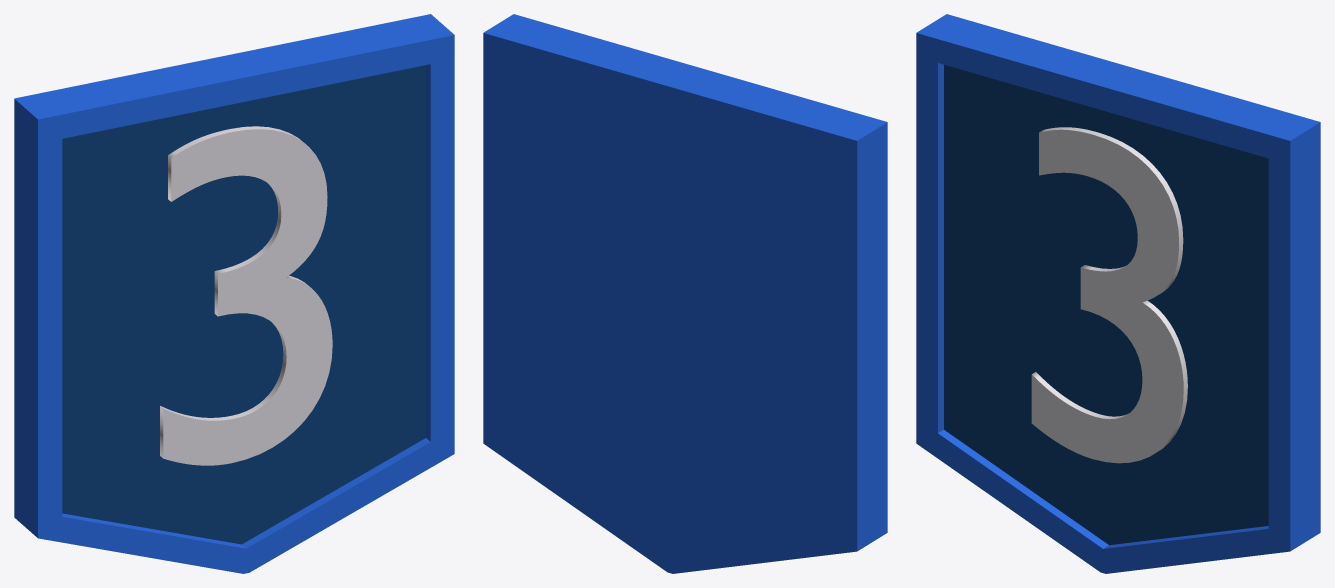
The model's file is css.glb.
3 views of the same model, side by side, from view 1: azimuth 30°, elevation 25°; view 2: azimuth 150°, elevation 25°; view 3: azimuth 330°, elevation 25° (orthographic). The views are drawn at different scales.
Parts seen in each view (by area): view 1: CSS.001, CSS, Text; view 2: CSS; view 3: CSS.001, CSS, Text.
Boxes of the visible parts, bbox=[...] form: CSS.001: bbox=[62, 65, 425, 544]; CSS: bbox=[14, 14, 454, 573]; Text: bbox=[160, 126, 332, 465]; CSS: bbox=[483, 14, 887, 573]; CSS.001: bbox=[944, 64, 1268, 545]; CSS: bbox=[916, 14, 1320, 573]; Text: bbox=[1031, 127, 1187, 463].
Bounding box in the file's own units: 5.4 × 6.35 × 1.05.
